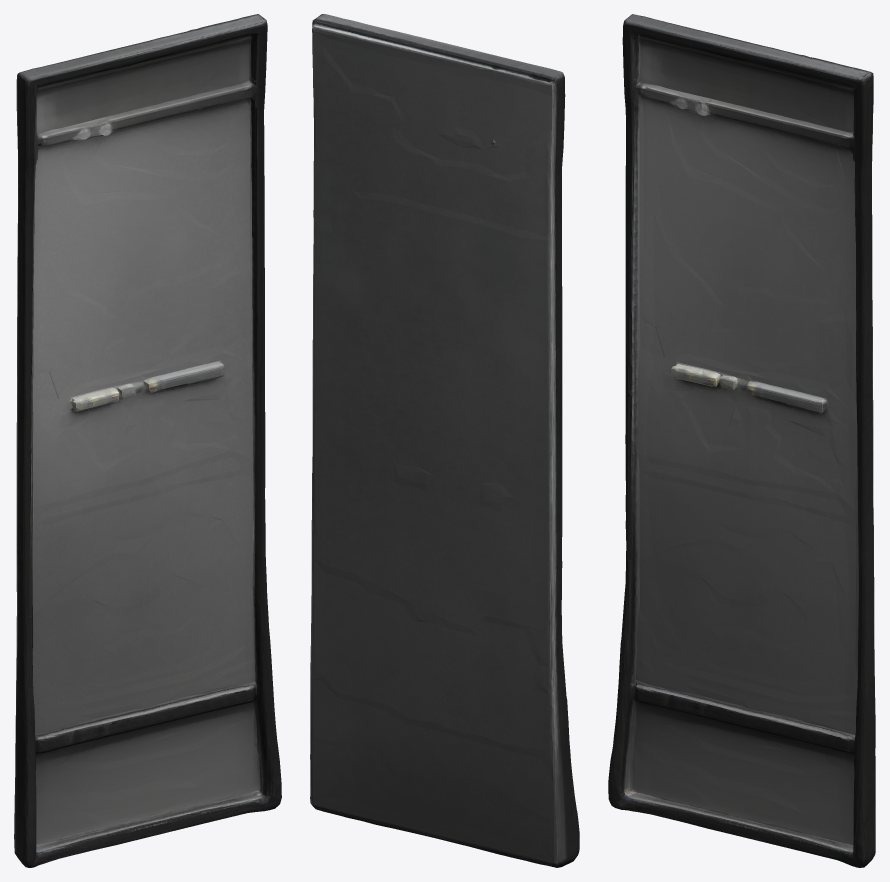
The picture shows the model from 3 angles, left to right: view 1: azimuth 30°, elevation 25°; view 2: azimuth 150°, elevation 25°; view 3: azimuth 330°, elevation 25°; orthographic projection.
Parts seen in each view (by area): view 1: world; view 2: world; view 3: world.
Part boxes in pixels (bbox=[...]): world: bbox=[14, 14, 281, 867]; world: bbox=[310, 14, 579, 867]; world: bbox=[608, 14, 875, 867].
Size of the model in its own units: 0.3418 by 1 by 0.0461.
1 material, 1 textured.
